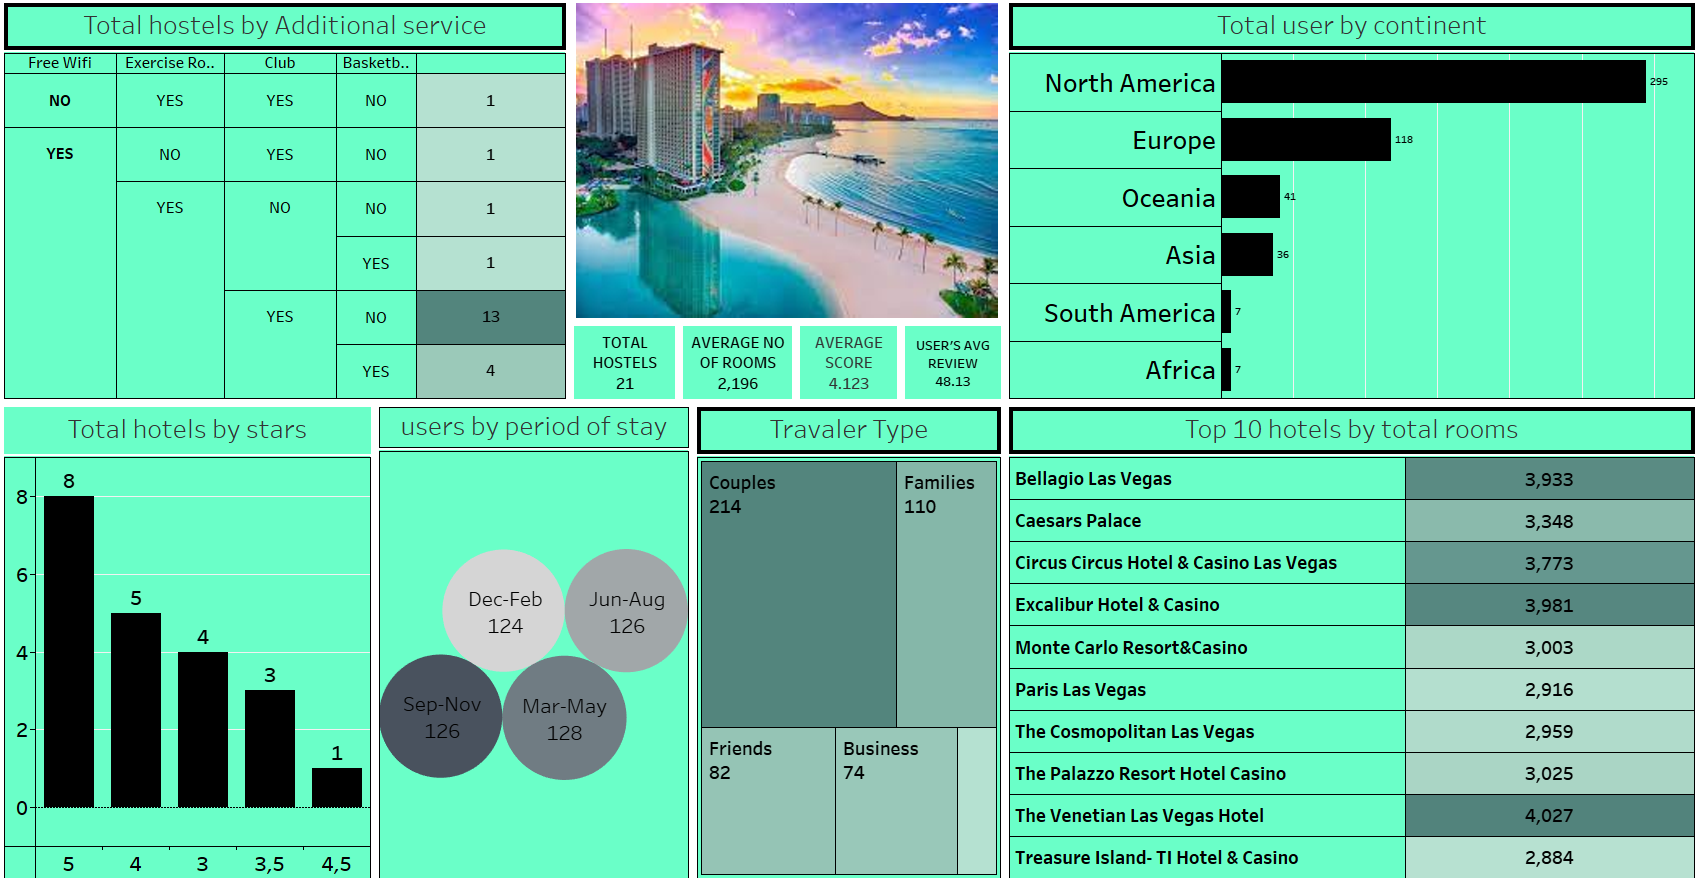

Layout of this report page (visuals, bound fields, positions):
{"tool":"tableau","page":{"name":"Dashboard 1","canvas":[1715,900],"ordinal":0},"visuals":[{"type":"worksheet","title":"Total hostels by Additional service","mark":"Square","rows":["Free Wifi","Exercise Room","Club","Basketball Court"],"box":[8,8,584,404]},{"type":"image","param":"Image/tripadvisor-logo.png","box":[592,8,497.6,323]},{"type":"worksheet","title":"Total users by Continent","mark":"Automatic","rows":["User continent"],"cols":["User continent"],"box":[1089.6,8,617.4,404]},{"type":"dashboard-object","box":[1090,8,24,24]},{"type":"worksheet","title":"Total hotels","mark":"Automatic","box":[592,331,109.1,81]},{"type":"worksheet","title":"Avg no of rms","mark":"Automatic","box":[701.1,331,129.5,81]},{"type":"worksheet","title":"Avg score","mark":"Automatic","box":[830.6,331,129.5,81]},{"type":"worksheet","title":"user's avg review","mark":"Automatic","box":[960.1,331,129.5,81]},{"type":"worksheet","title":"Total hotels by stars","mark":"Automatic","rows":["Hotel name"],"cols":["Hotel stars"],"box":[8,412,397,480]},{"type":"worksheet","title":"users by period of stay","mark":"Circle","box":[405,412,350,480]},{"type":"worksheet","title":"Travaler Type","mark":"Automatic","box":[755,412,446,480]},{"type":"worksheet","title":"Top 10 hotels by total rooms","mark":"Square","rows":["Hotel name"],"box":[1201,412,506,480]}]}

Visuals, with their boxes in screenshot pixels (x1, y1, x2, y2), scaled from the page's 1715x900 canvas onto the 1699x878 screenshot:
"Total hostels by Additional service" worksheet (Square marks): bbox=(8, 8, 586, 402)
image: bbox=(586, 8, 1079, 323)
"Total users by Continent" worksheet: bbox=(1079, 8, 1691, 402)
dashboard-object: bbox=(1080, 8, 1104, 31)
"Total hotels" worksheet: bbox=(586, 323, 695, 402)
"Avg no of rms" worksheet: bbox=(695, 323, 823, 402)
"Avg score" worksheet: bbox=(823, 323, 951, 402)
"user's avg review" worksheet: bbox=(951, 323, 1079, 402)
"Total hotels by stars" worksheet: bbox=(8, 402, 401, 870)
"users by period of stay" worksheet (Circle marks): bbox=(401, 402, 748, 870)
"Travaler Type" worksheet: bbox=(748, 402, 1190, 870)
"Top 10 hotels by total rooms" worksheet (Square marks): bbox=(1190, 402, 1691, 870)
